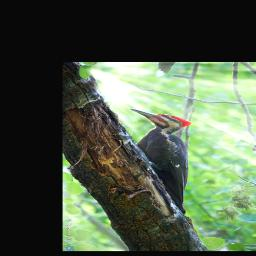Woodpecker: (128, 108, 193, 215)
